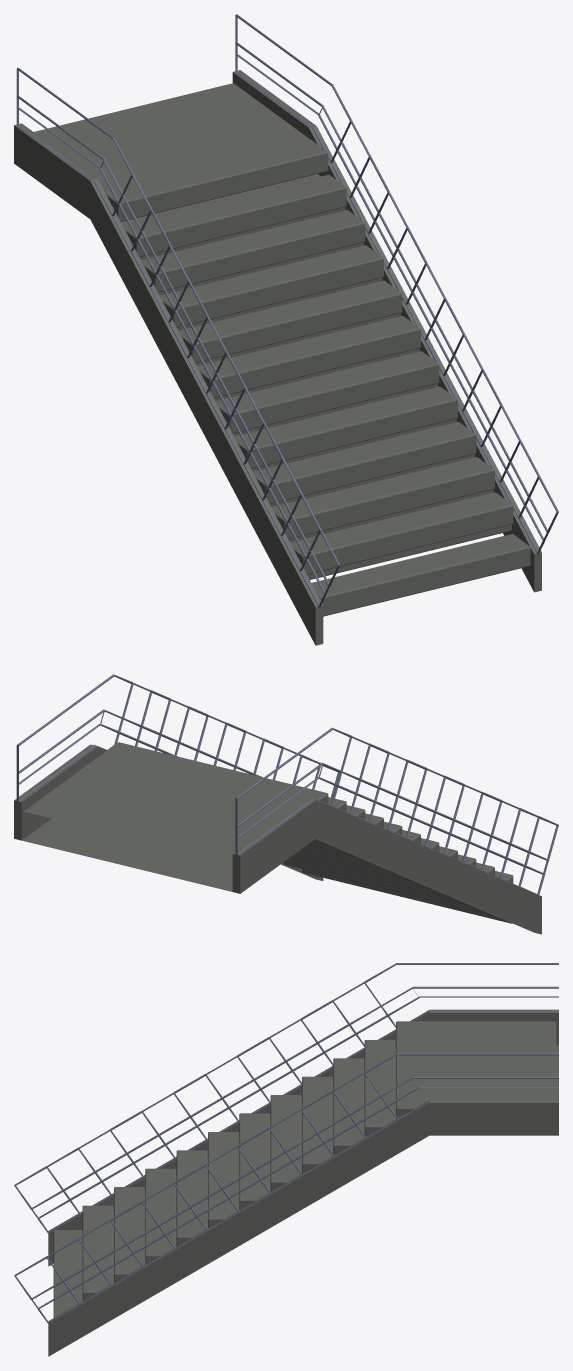
File: escalerasmetal.glb
3 views of the same model, one above another, from view 1: azimuth 30°, elevation 25°; view 2: azimuth 150°, elevation 25°; view 3: azimuth 270°, elevation 25° (orthographic). The views are drawn at different scales.
Visible parts, largest first — view 1: escalera; view 2: escalera; view 3: escalera.
Part boxes in pixels (x1,y1,x2,y2): escalera: (14,14,558,645); escalera: (14,674,558,934); escalera: (14,963,558,1356).
Size of the model in its own units: 2.15 by 3.23 by 5.29.
